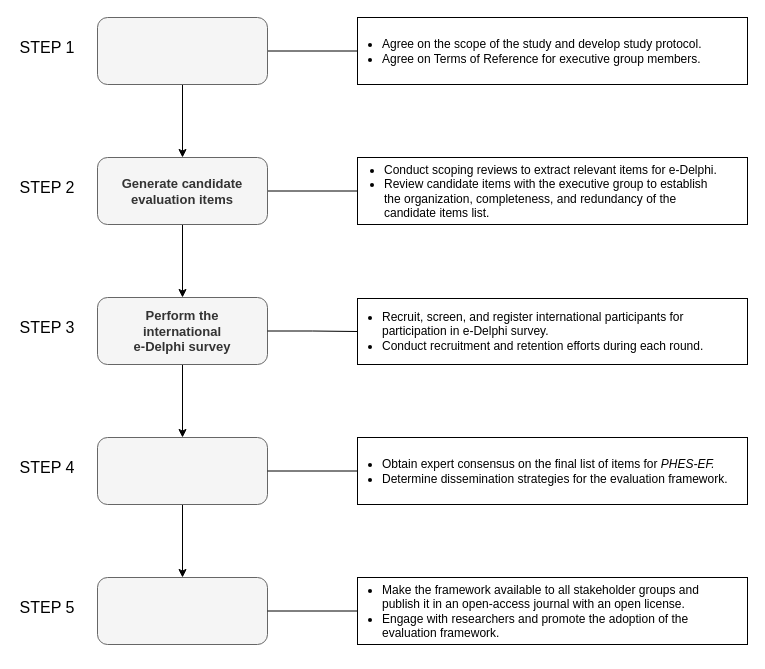
This 765x669 diagram has some shape labels left out. Each missing label, with the centre of its shape:
"Conduct the consensus meeting" belongs at [182,470].
"Disseminate the evaluation framework" belongs at [182,610].
"Establish the executive group" belongs at [182,50].
